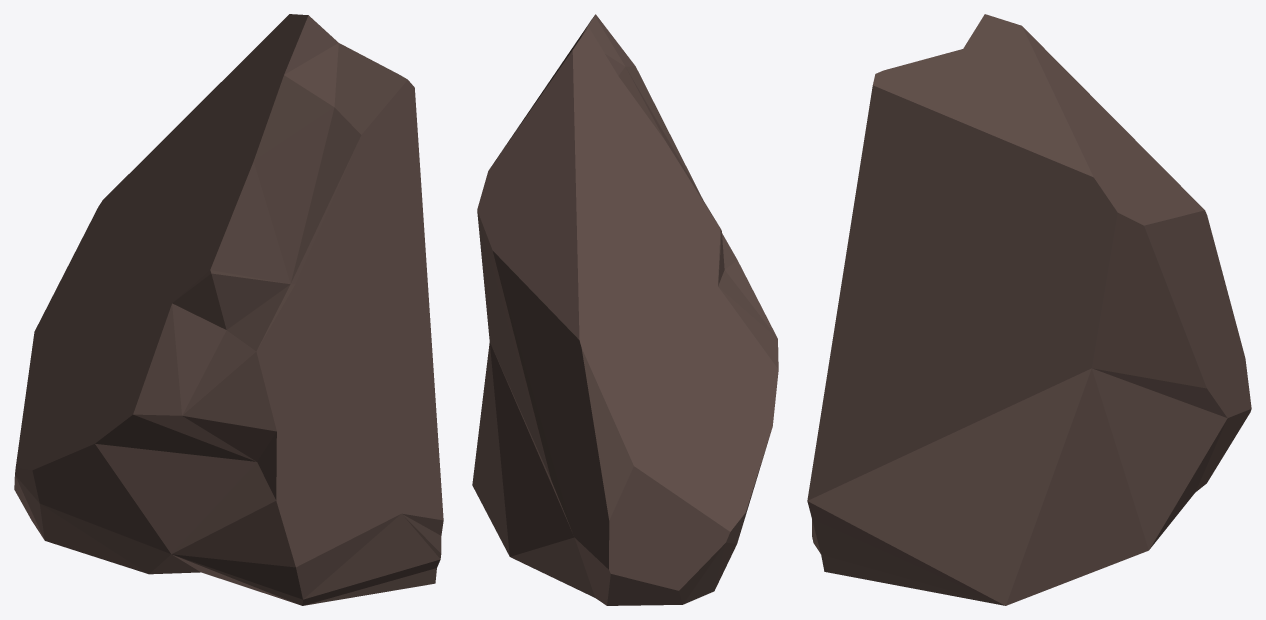
Rendered from Cliff shard 4.fbx.
3 views of the same model, side by side, from view 1: azimuth 30°, elevation 25°; view 2: azimuth 150°, elevation 25°; view 3: azimuth 270°, elevation 25° (orthographic). The views are drawn at different scales.
Visible parts, largest first — view 1: Cliff shard 4; view 2: Cliff shard 4; view 3: Cliff shard 4.
Part boxes in pixels (x1,y1,x2,y2): Cliff shard 4: (14,14,443,605); Cliff shard 4: (472,14,778,605); Cliff shard 4: (807,14,1251,605).
Size of the model in its own units: 0.7585 by 1.11 by 0.838.
